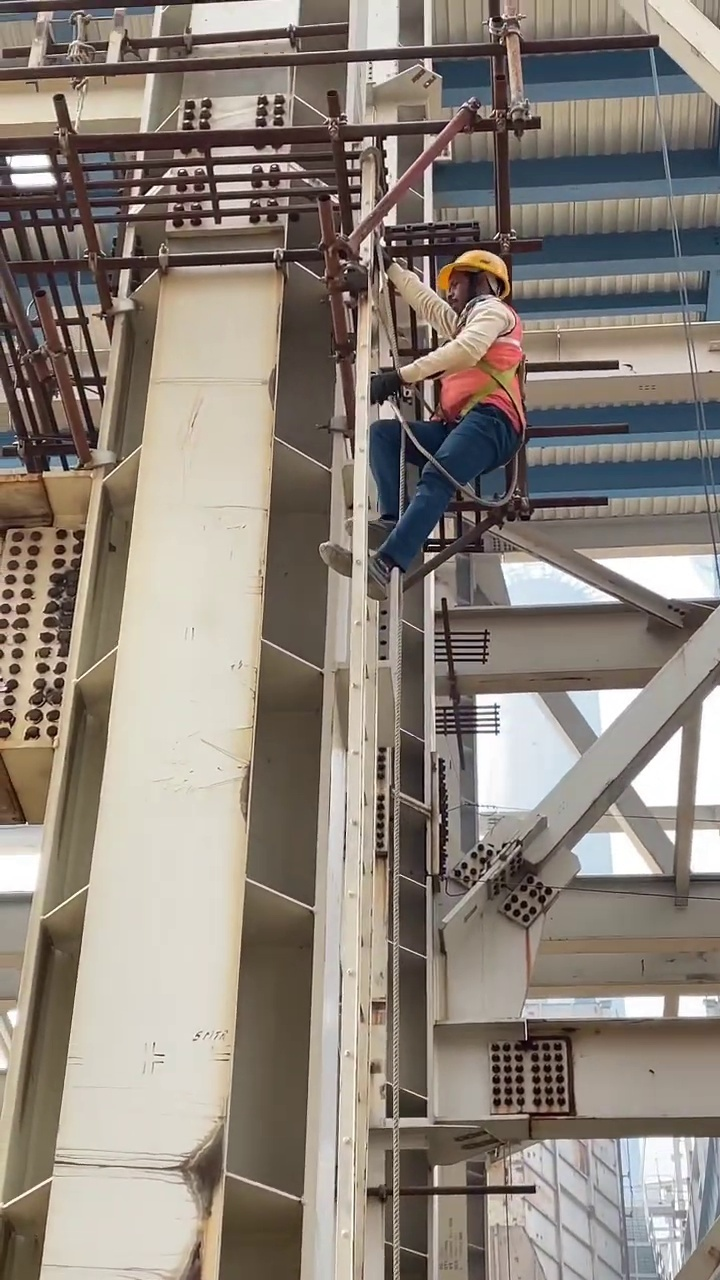Helmet: (440, 250, 513, 288)
Person: (309, 245, 525, 599)
Safety_Harness: (412, 294, 527, 504)
Safety_shoes: (316, 538, 389, 599), (359, 519, 420, 556)
